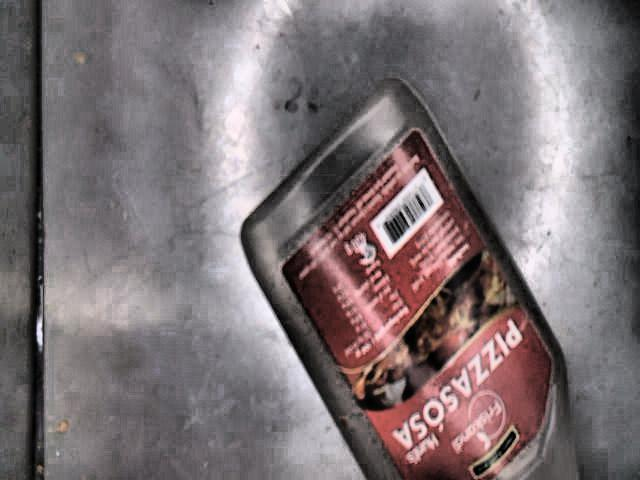Plastic: (238, 79, 581, 480)
